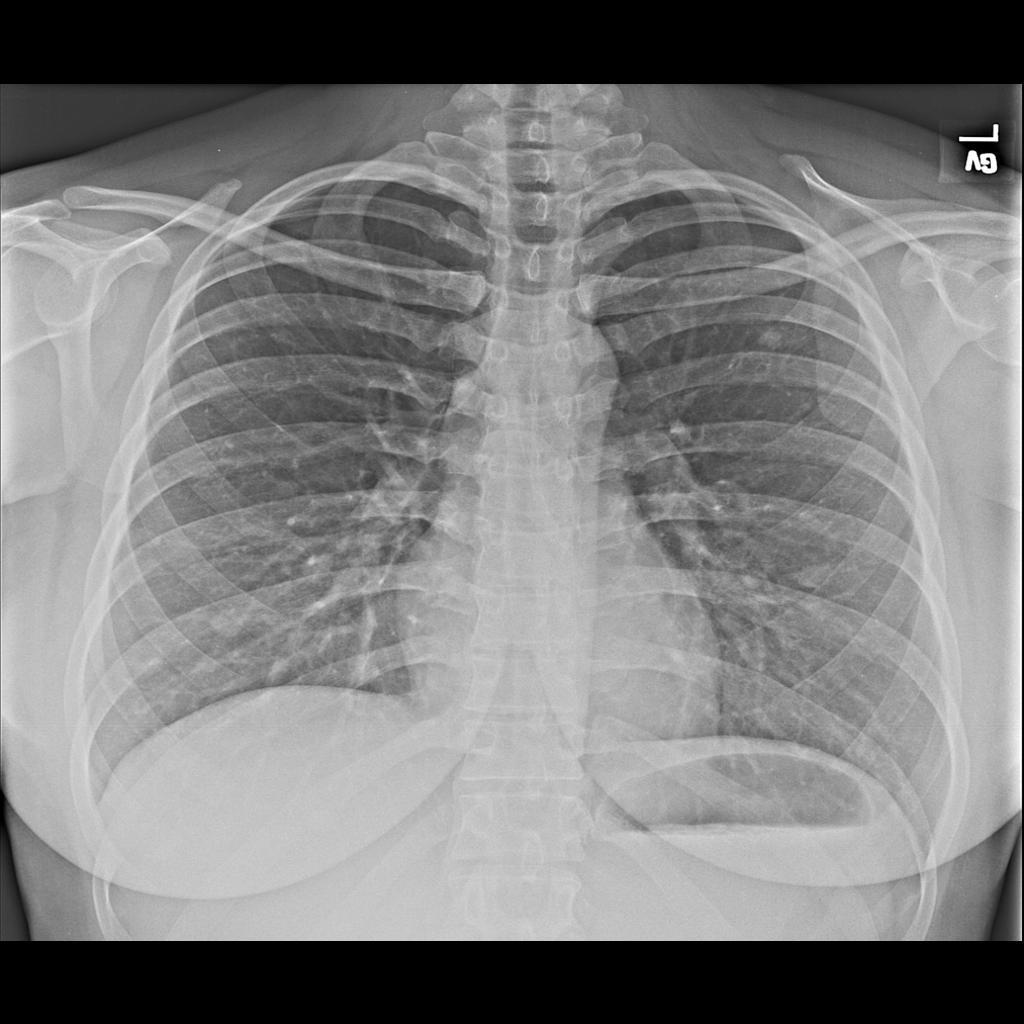Nodule: (207, 601, 261, 644), (799, 555, 837, 594), (763, 322, 786, 355)
